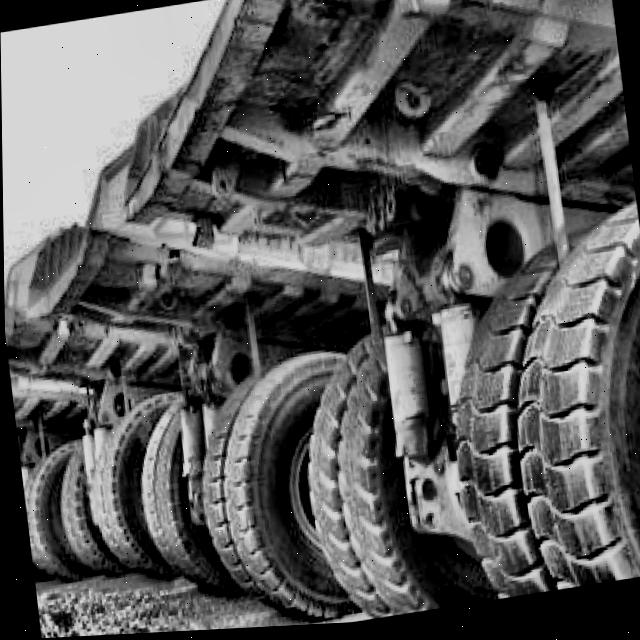dump_truck: (93, 0, 640, 636)
